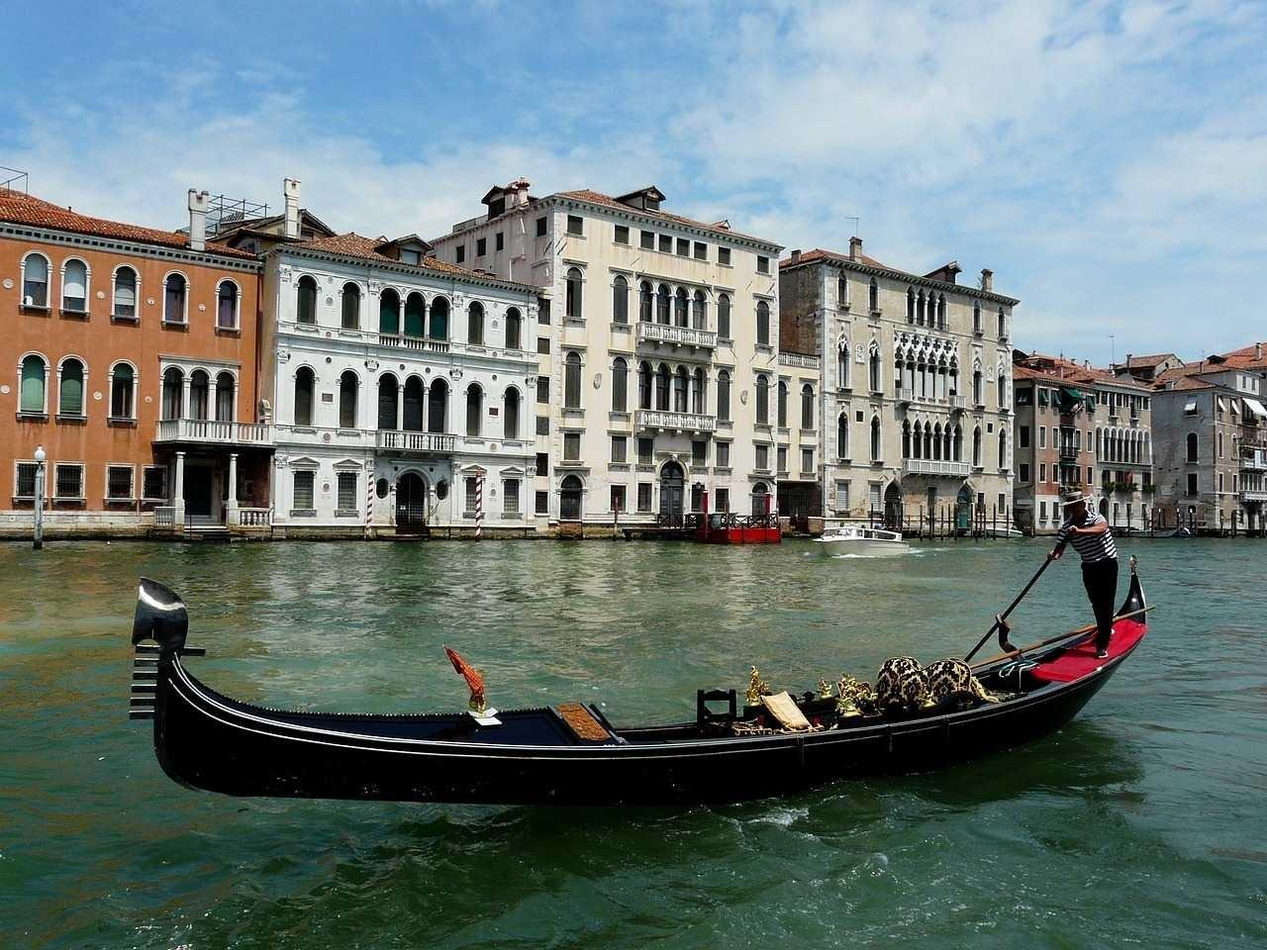kayak: (123, 579, 1163, 810), (819, 522, 906, 550)
